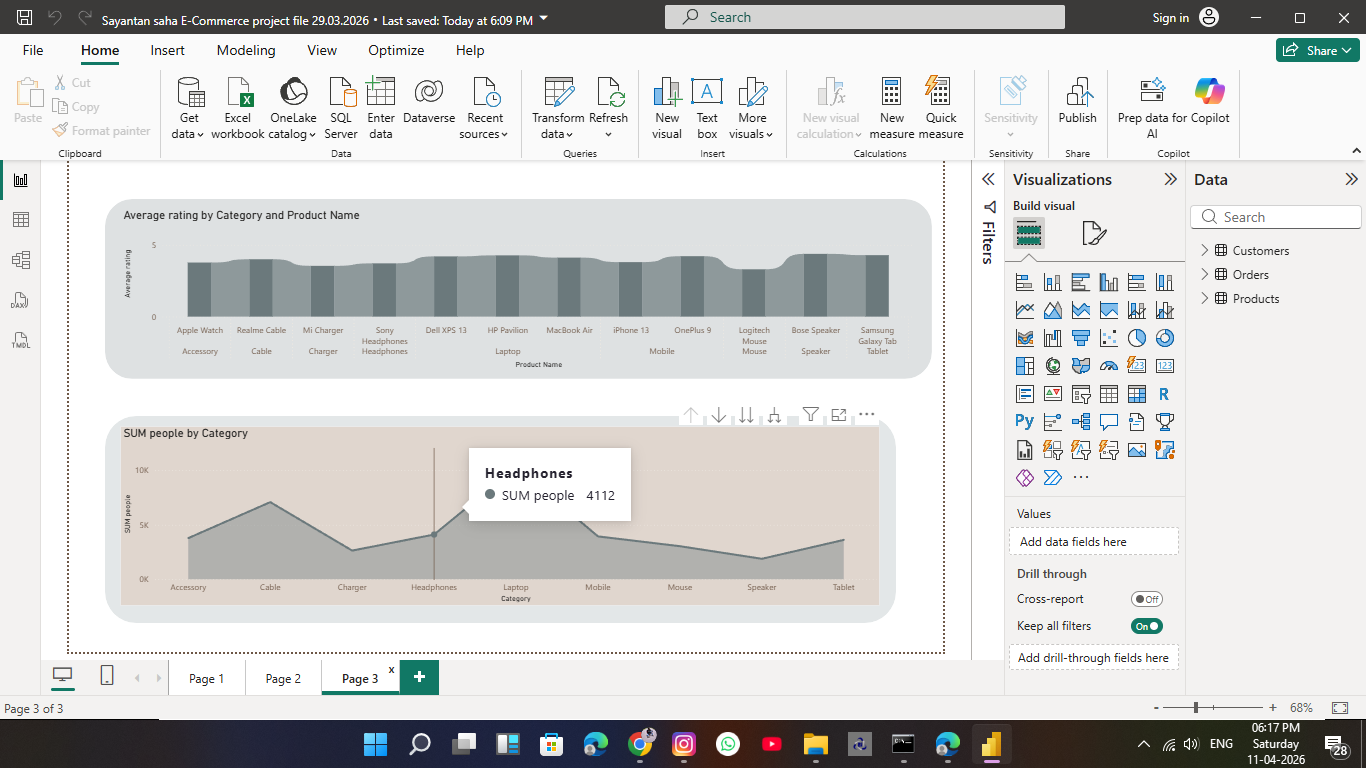

The page's visual inventory and layout, read from the dashboard file:
{"tool":"powerbi","page":{"name":"Page 3","canvas":[1280,720],"ordinal":2},"visuals":[{"type":"shape","box":[52.7,57.1,1210.2,263.4],"z":0},{"type":"ribbonChart","fields":{"Category":["Products.Category","Products.Product Name"],"Y":["Products.Average rating"]},"box":[74.6,70.2,1167.8,240],"z":1000},{"type":"shape","box":[52.7,374.6,1157.6,302.9],"z":2000},{"type":"stackedAreaChart","fields":{"Category":["Products.Category","Products.Product Name"],"Y":["Customers.SUM people"]},"box":[74.6,389.3,1112.2,263.4],"z":3000}]}

Visuals, with their boxes on the page's 1280x720 design canvas (x1, y1, x2, y2). These are canvas units, not pixel positions in the 1366x768 screenshot, which may show the page scaled, cropped or inside an application window:
shape: (53, 57, 1263, 320)
ribbonChart - Products.Category x Products.Product Name: (75, 70, 1242, 310)
shape: (53, 375, 1210, 678)
stackedAreaChart - Products.Category x Products.Product Name: (75, 389, 1187, 653)
